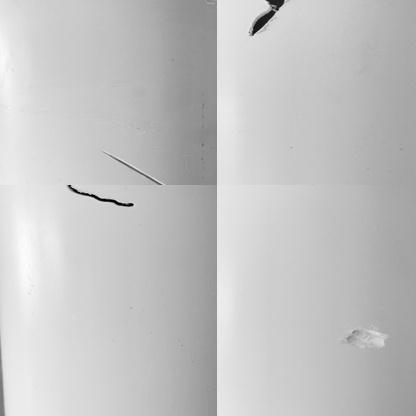fengxi: (63, 184, 135, 210)
kongdong: (245, 1, 290, 37)
sunshang: (98, 147, 172, 188), (343, 323, 389, 354)
